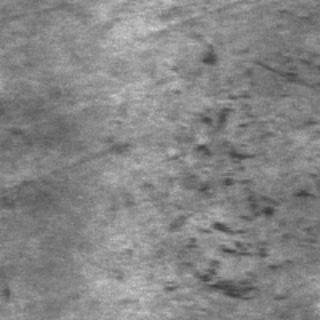rolled pit: (160, 51, 300, 307)
